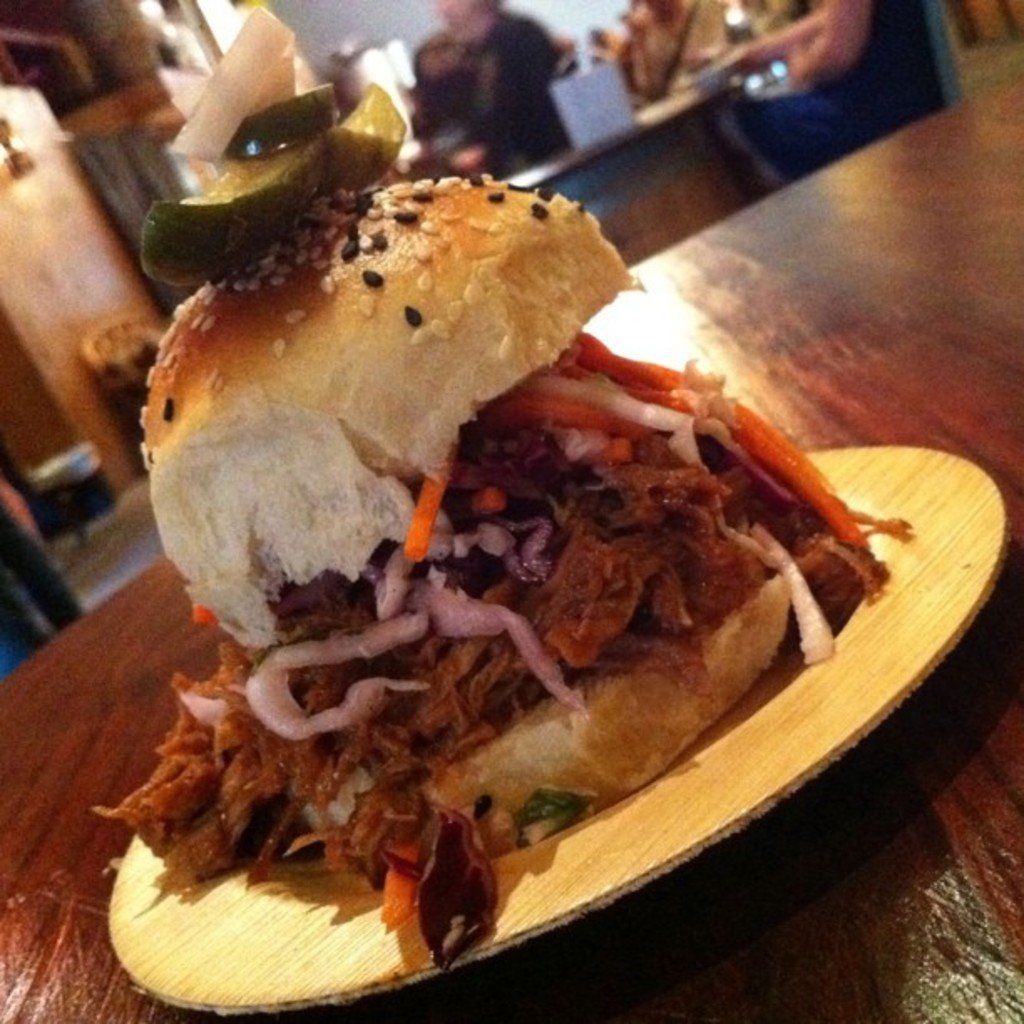Hamburger: (92, 5, 915, 967)
